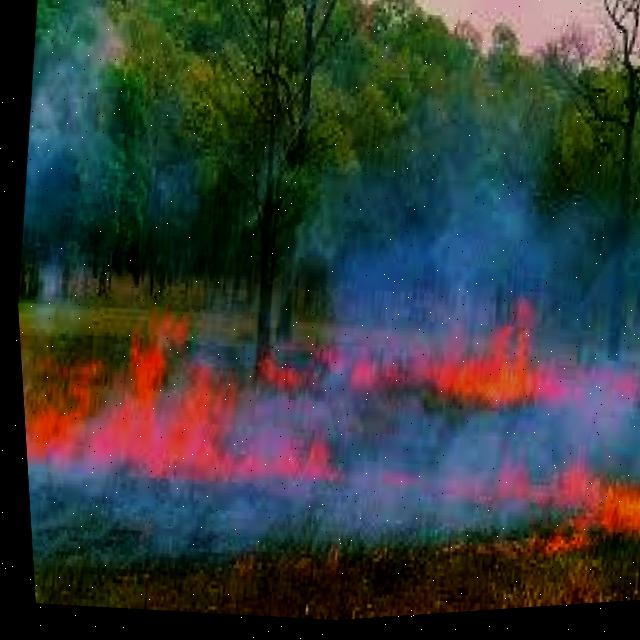fire: (21, 360, 205, 472), (549, 483, 640, 567), (437, 357, 530, 413)
smoke: (321, 171, 519, 358), (319, 394, 537, 547), (42, 476, 267, 569), (23, 52, 97, 230)
